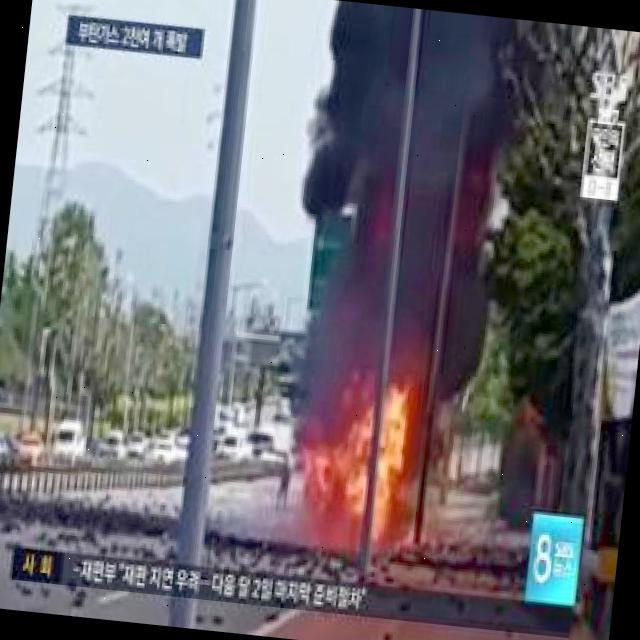fire: (312, 404, 426, 560)
